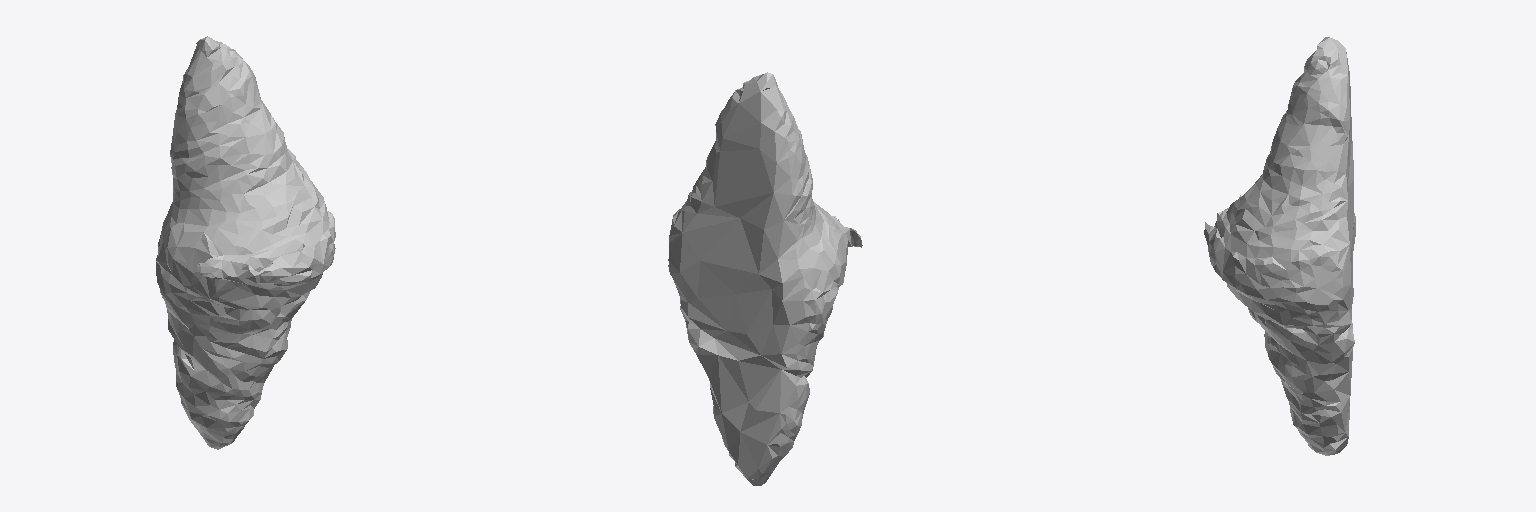
The model's file is croissant_01_L0.obj.
3 renders of one model, left to right at view 1: azimuth 30°, elevation 25°; view 2: azimuth 150°, elevation 25°; view 3: azimuth 270°, elevation 25°, orthographic.
Parts seen in each view (by area): view 1: croissant_01_L0; view 2: croissant_01_L0; view 3: croissant_01_L0.
Part boxes in pixels (left/top/right/bottom): croissant_01_L0: left=156, top=36, right=335, bottom=449; croissant_01_L0: left=668, top=72, right=862, bottom=485; croissant_01_L0: left=1204, top=37, right=1355, bottom=455.
Bounding box in the file's own units: 2.76 × 6.87 × 2.28.